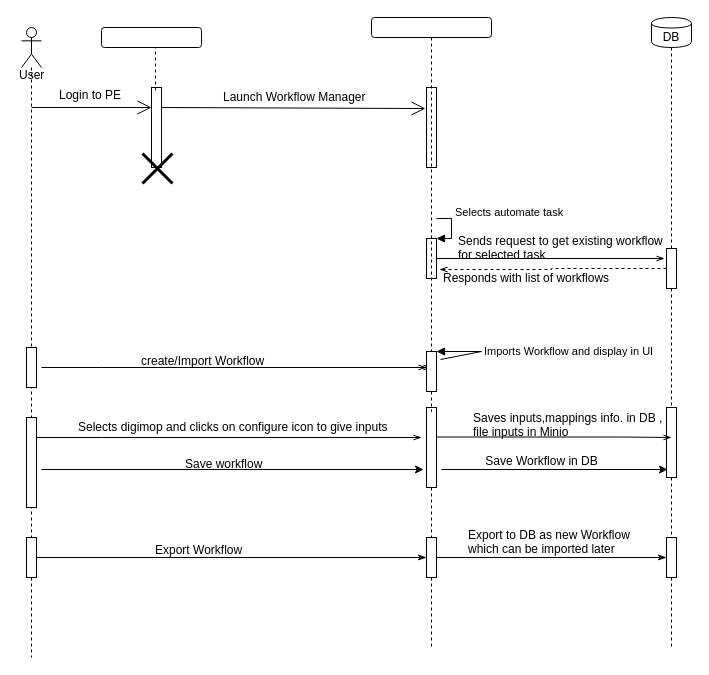
The diagram is 709 pixels wide and 675 high, and some of its shapes have lost their labels. Each missing label, with the box of its shape:
Project Explorer: (100, 26, 202, 48)
Workflow Manager: (370, 16, 492, 38)
